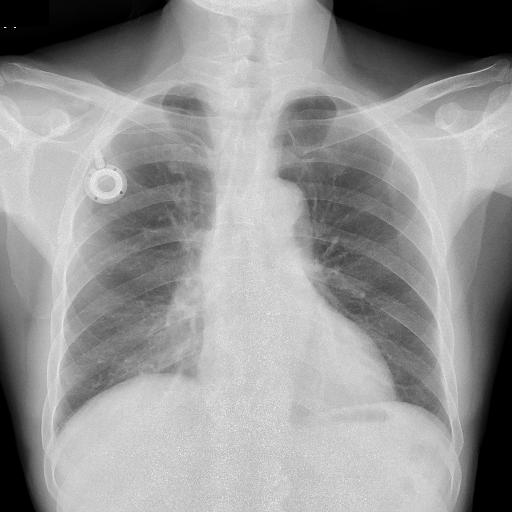Aortic enlargement: (222, 148, 281, 208)
Cardiomegaly: (90, 304, 298, 376)
